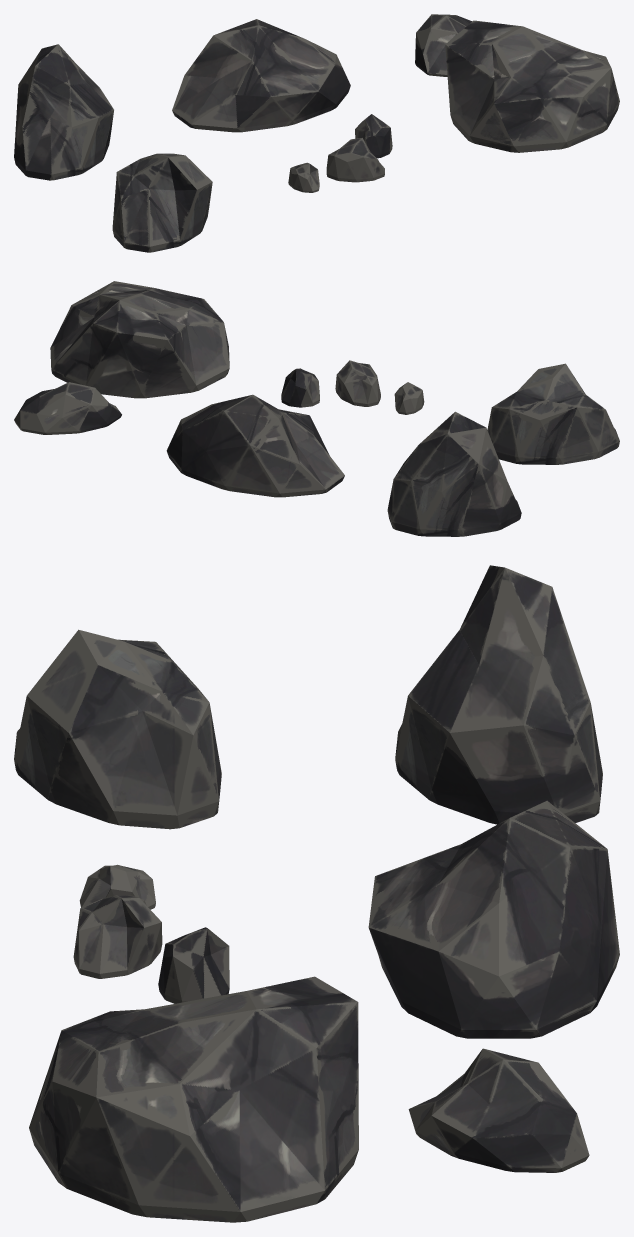
The model's file is Rocks.obj.
3 views of the same model, one above another, from view 1: azimuth 30°, elevation 25°; view 2: azimuth 150°, elevation 25°; view 3: azimuth 270°, elevation 25° (orthographic). The views are drawn at different scales.
Parts seen in each view (by area): view 1: Icosphere.007, Icosphere, Icosphere.002, Icosphere.003, Icosphere.001, Icosphere.005, Icosphere.006, Icosphere.004; view 2: Icosphere.007, Icosphere, Icosphere.002, Icosphere.003, Icosphere.001, Icosphere.005, Icosphere.006, Icosphere.004; view 3: Icosphere.007, Icosphere, Icosphere.002, Icosphere.003, Icosphere.001, Icosphere.005, Icosphere.006, Icosphere.004.
Part boxes in pixels (left/top/right/bottom): Icosphere.007: left=445, top=20, right=619, bottom=152; Icosphere: left=172, top=19, right=350, bottom=132; Icosphere.002: left=14, top=44, right=113, bottom=180; Icosphere.003: left=112, top=153, right=212, bottom=252; Icosphere.001: left=415, top=14, right=471, bottom=76; Icosphere.005: left=326, top=137, right=384, bottom=182; Icosphere.006: left=355, top=114, right=392, bottom=158; Icosphere.004: left=288, top=162, right=319, bottom=192; Icosphere.007: left=50, top=281, right=229, bottom=398; Icosphere: left=166, top=394, right=344, bottom=497; Icosphere.002: left=387, top=411, right=521, bottom=536; Icosphere.003: left=487, top=363, right=619, bottom=464; Icosphere.001: left=14, top=382, right=121, bottom=434; Icosphere.005: left=335, top=360, right=380, bottom=406; Icosphere.006: left=281, top=368, right=319, bottom=407; Icosphere.004: left=394, top=382, right=424, bottom=414; Icosphere.007: left=29, top=976, right=358, bottom=1222; Icosphere: left=368, top=800, right=619, bottom=1038; Icosphere.002: left=395, top=565, right=602, bottom=824; Icosphere.003: left=14, top=629, right=221, bottom=829; Icosphere.001: left=408, top=1048, right=589, bottom=1172; Icosphere.005: left=73, top=895, right=162, bottom=978; Icosphere.006: left=158, top=927, right=229, bottom=1003; Icosphere.004: left=79, top=864, right=155, bottom=909.
Size of the model in its own units: 9.68 by 1.93 by 5.01.
Materials: 1 (1 with a texture image).
